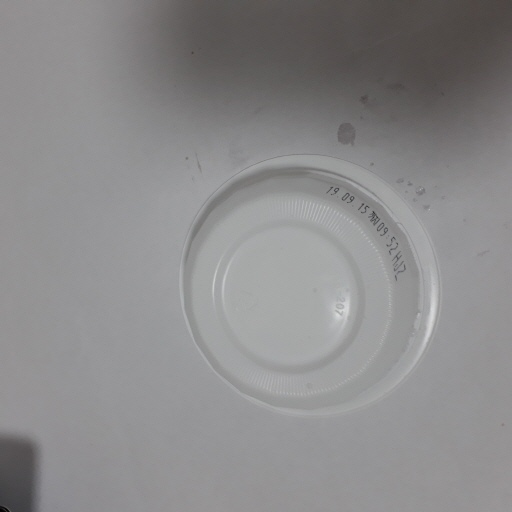Plastic_5: (179, 152, 443, 419)
